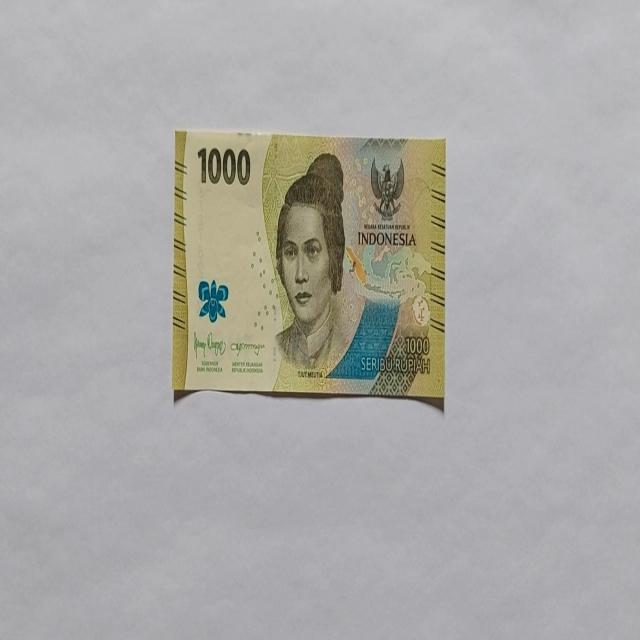seribu rupiah kertas: (172, 128, 446, 404)
